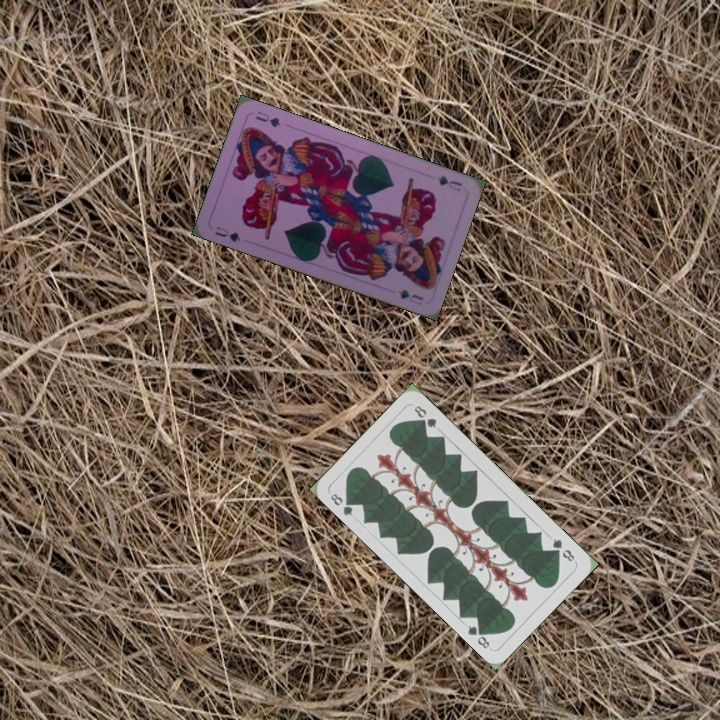G8: (326, 489, 357, 519), (548, 534, 577, 565)
GU: (211, 222, 243, 245), (433, 171, 464, 194)
